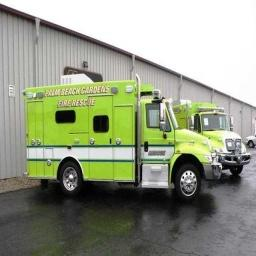Ambulance: (23, 76, 221, 200), (172, 100, 250, 174)
